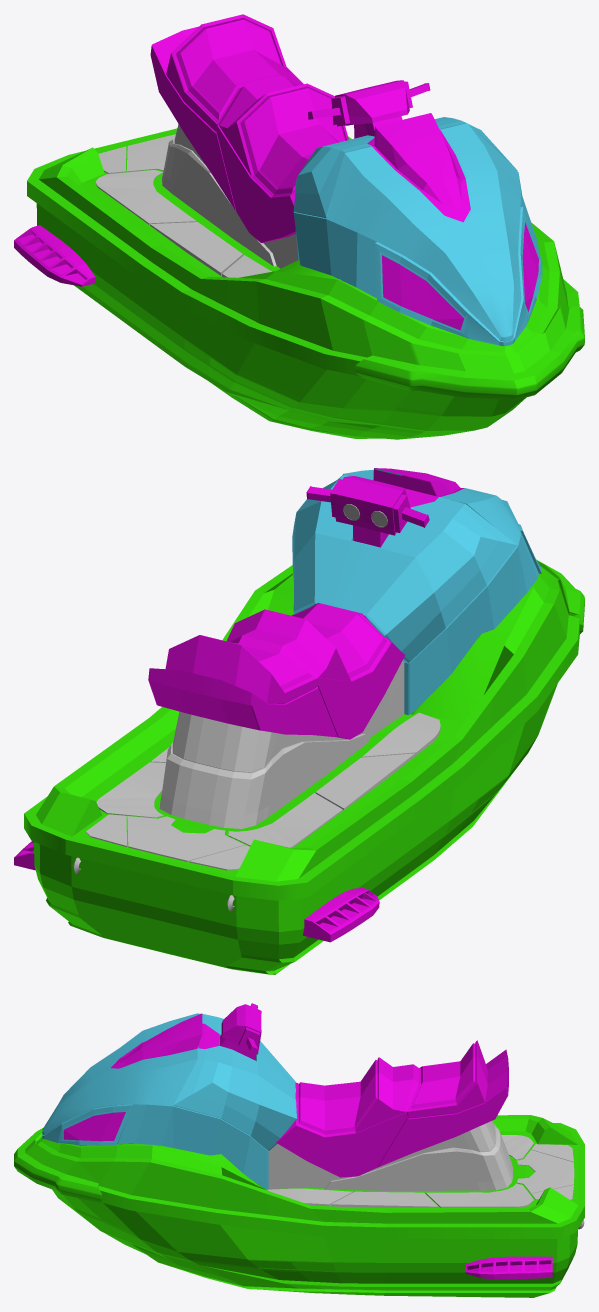
File: boat.fbx
The picture shows the model from 3 angles, top to bottom: view 1: azimuth 30°, elevation 25°; view 2: azimuth 150°, elevation 25°; view 3: azimuth 270°, elevation 25°; orthographic projection. The views are drawn at different scales.
Parts seen in each view (by area): view 1: polySurface8; view 2: polySurface8; view 3: polySurface8.
Boxes of the visible parts, x1=… form: polySurface8: x1=14, y1=14, x2=584, y2=439; polySurface8: x1=14, y1=468, x2=584, y2=974; polySurface8: x1=14, y1=1003, x2=584, y2=1297.
Size of the model in its own units: 15.05 by 14.7 by 30.21.
